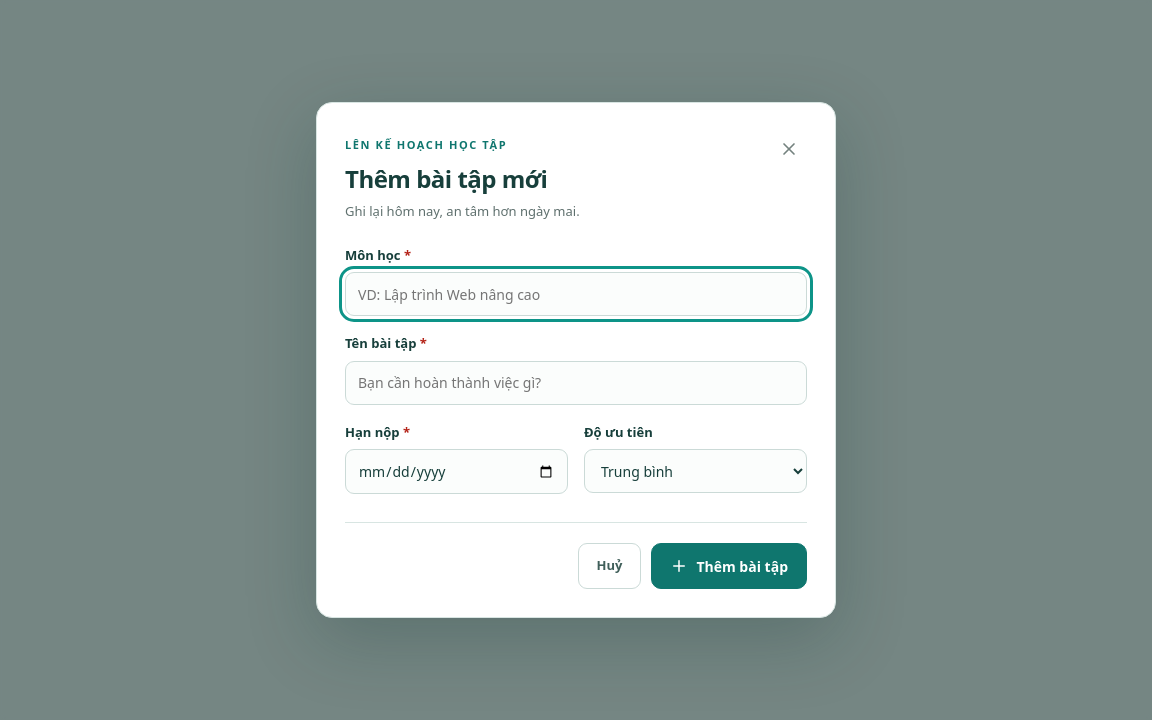
Test case: AssignmentForm › validates required fields
The image size is (1152, 720).
Click the button "Thêm bài tập".
click(729, 566)  # box [651,543,807,589]
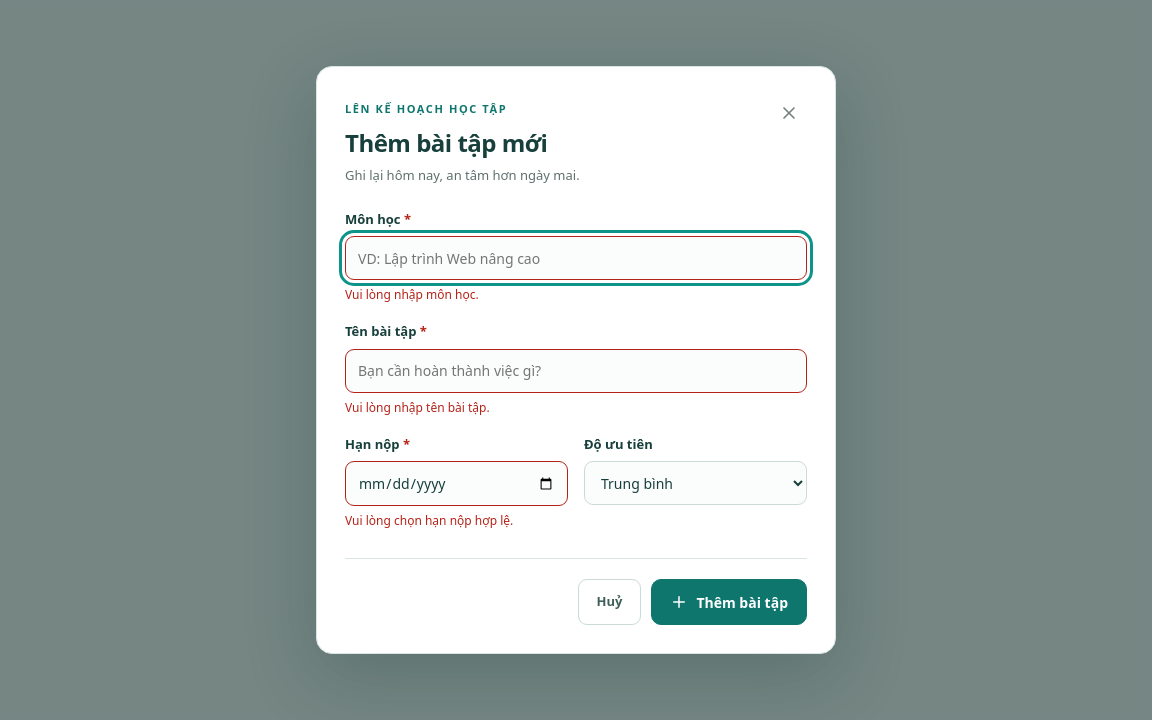
Expected: the text "Vui lòng nhập môn học." is shown, [345,286,479,303]
Expected: the text "Vui lòng nhập tên bài tập." is shown, [345,398,490,416]
